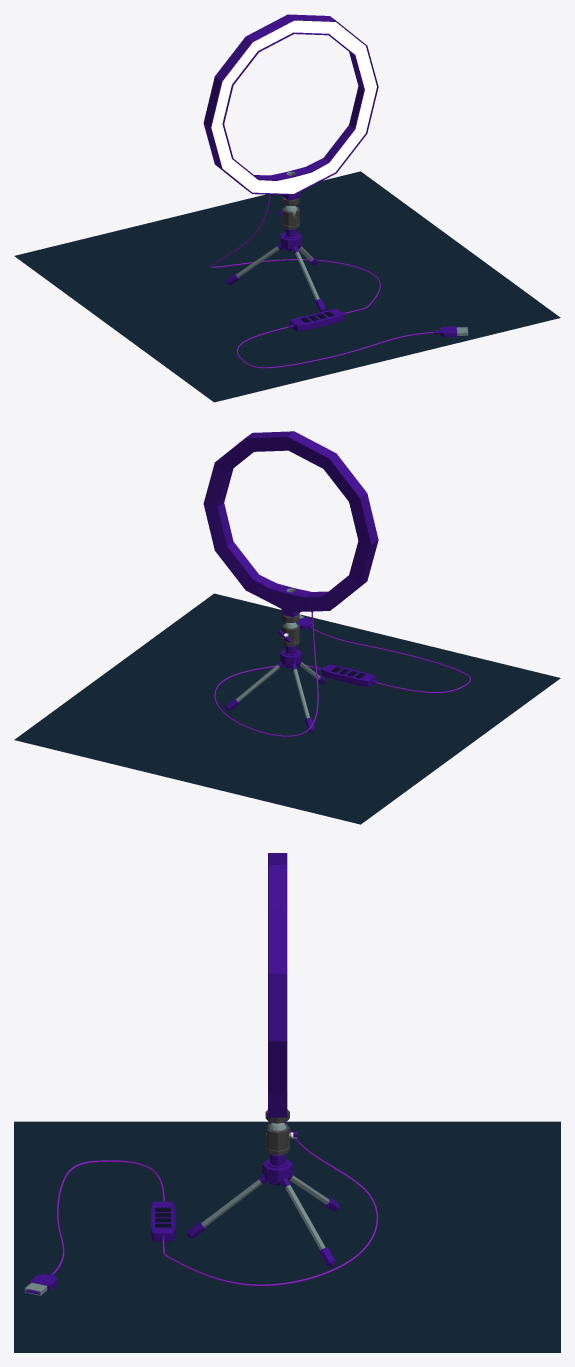
The model's file is lamp.glb.
3 renders of one model, top to bottom at view 1: azimuth 30°, elevation 25°; view 2: azimuth 150°, elevation 25°; view 3: azimuth 270°, elevation 25°, orthographic. The views are drawn at different scales.
Parts seen in each view (by area): view 1: Object_7, Object_10, Object_2, Object_3, Object_8; view 2: Object_7, Object_10, Object_3, Object_8; view 3: Object_7, Object_10, Object_8, Object_3, Object_9.
Boxes of the visible parts, <box> form: Object_7: <box>14,171,560,402</box>; Object_10: <box>203,14,457,337</box>; Object_2: <box>211,20,376,193</box>; Object_3: <box>210,195,434,368</box>; Object_8: <box>236,171,468,335</box>; Object_7: <box>14,593,560,824</box>; Object_10: <box>203,431,378,732</box>; Object_3: <box>214,612,470,736</box>; Object_8: <box>236,588,320,718</box>; Object_7: <box>14,1121,560,1352</box>; Object_10: <box>26,853,339,1294</box>; Object_8: <box>24,1122,329,1295</box>; Object_3: <box>53,1122,377,1286</box>; Object_9: <box>265,1109,289,1155</box>.
Bounding box in the file's own units: 4.12 × 3.1 × 4.12.
